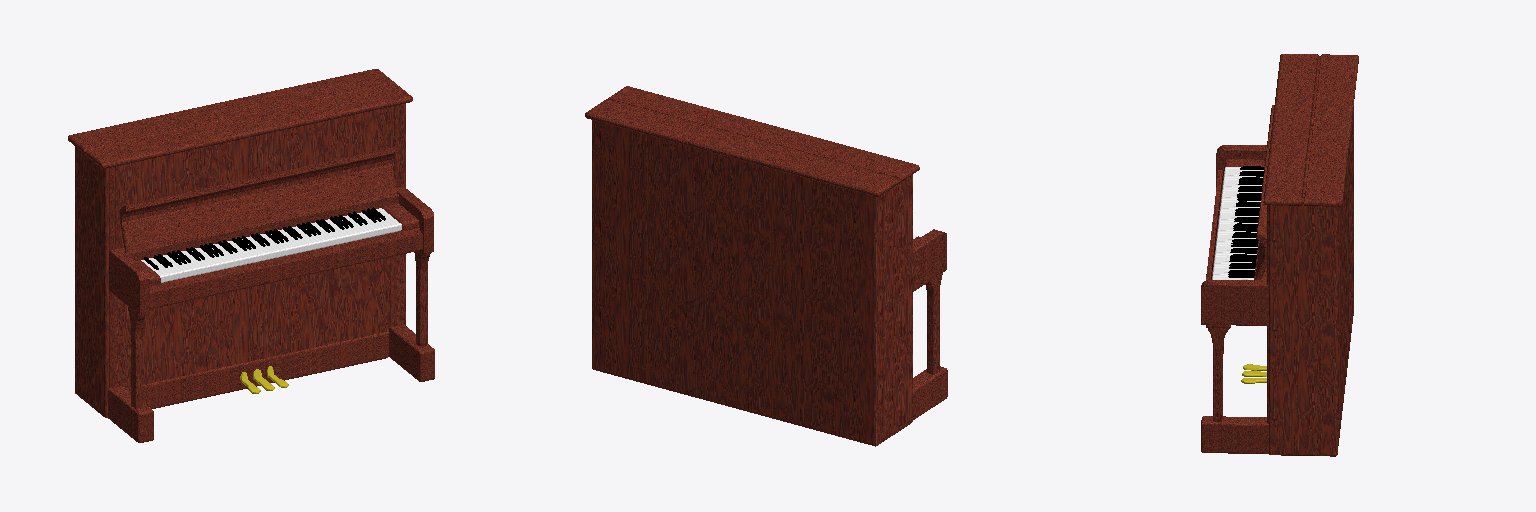
The picture shows the model from 3 angles: view 1: azimuth 30°, elevation 25°; view 2: azimuth 150°, elevation 25°; view 3: azimuth 270°, elevation 25°; orthographic projection.
Parts seen in each view (by area): view 1: Black_Key37; view 2: Black_Key37; view 3: Black_Key37.
Boxes of the visible parts, x1=… form: Black_Key37: x1=68, y1=69, x2=434, y2=442; Black_Key37: x1=585, y1=86, x2=947, y2=446; Black_Key37: x1=1201, y1=54, x2=1358, y2=456.
Size of the model in its own units: 0.9097 by 0.734 by 0.4073.
Materials: 12 (4 with a texture image).